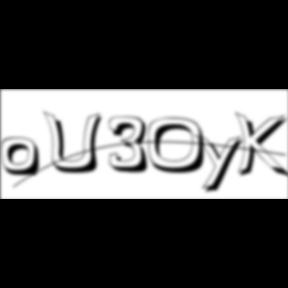3: (109, 116, 155, 176)
O: (148, 117, 214, 176)
U: (44, 110, 108, 176)
o: (1, 137, 43, 179)
y: (195, 132, 249, 196)
